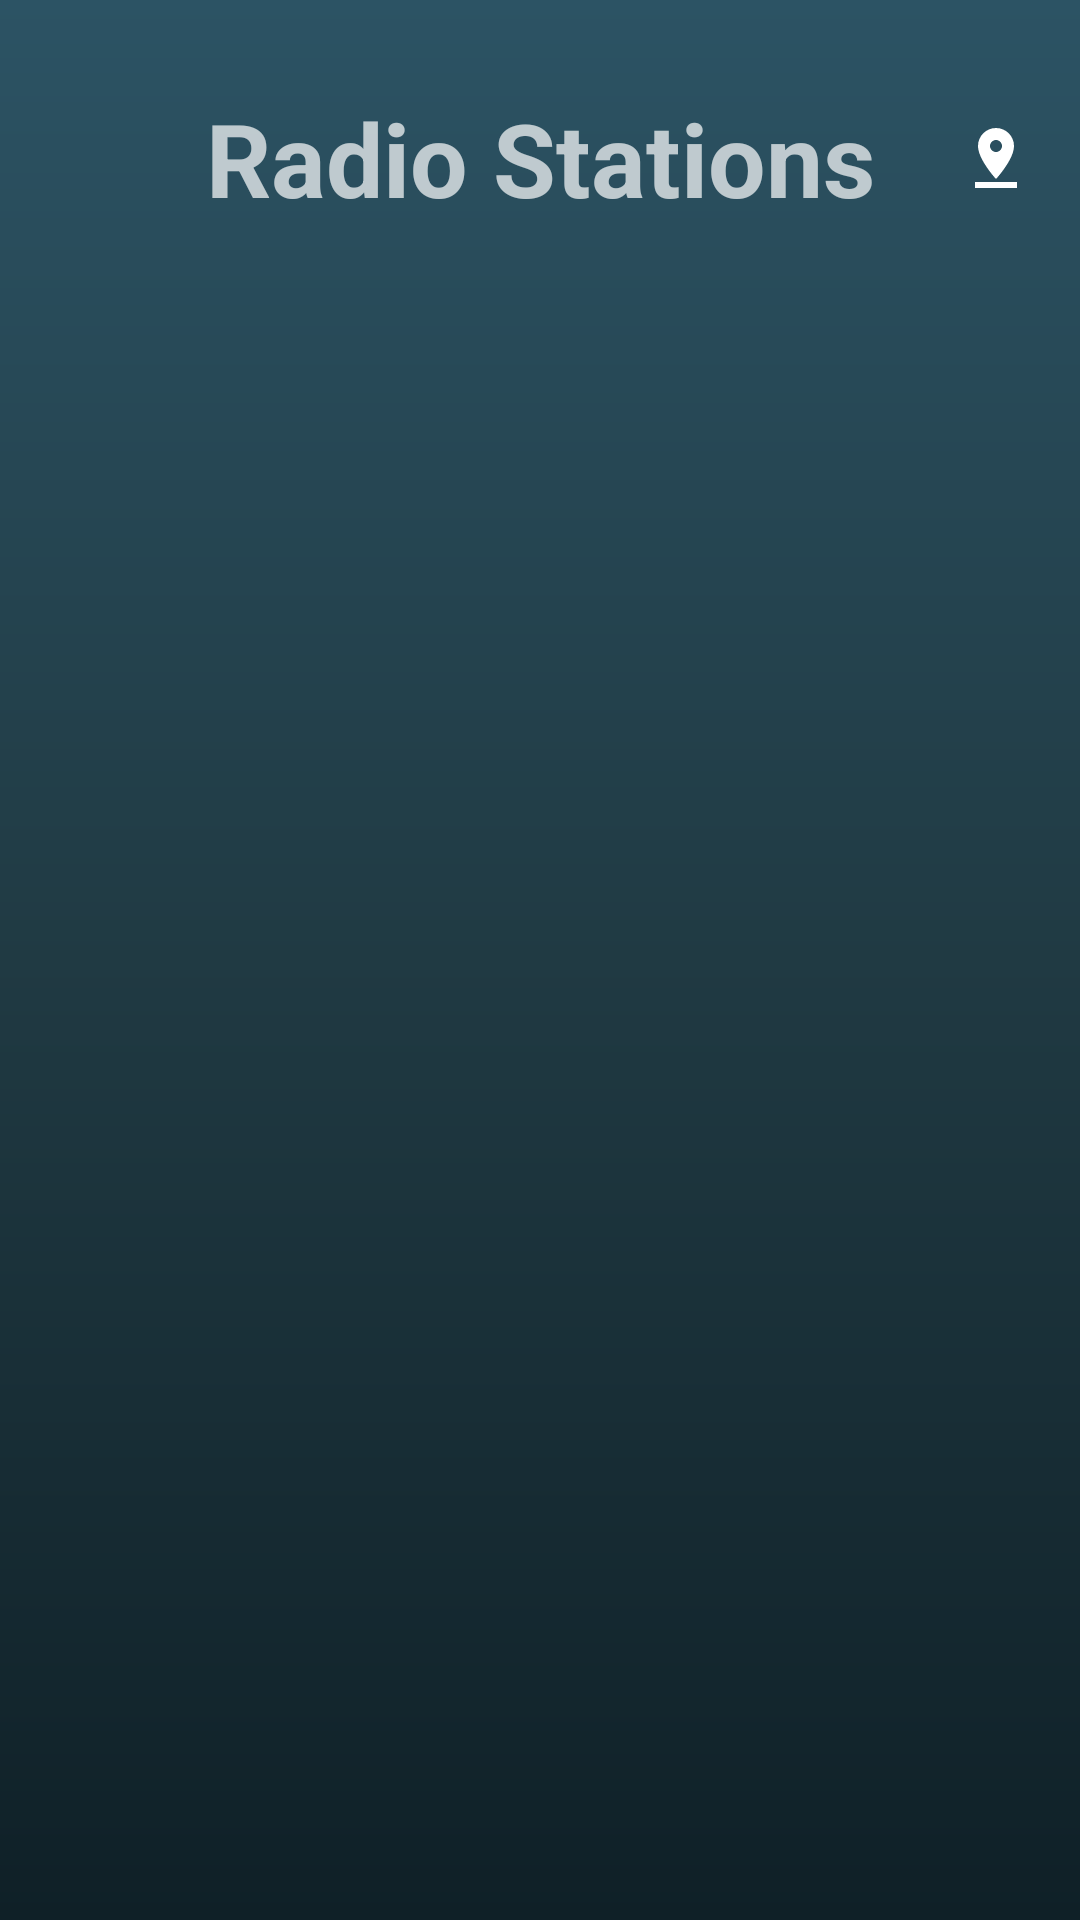

Locate icon controls on the screen. Image size 1080px×1920px, boxes as region(x1, y1, x2, y2).
region: region(975, 128, 1017, 188)
